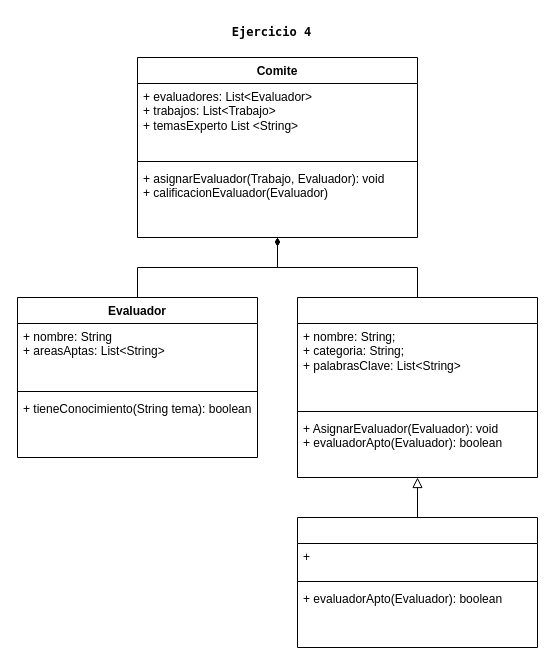
The diagram is 555 pixels wide and 667 high, and some of its shapes have lost their labels. Here are the shapes that lost their labels. From the top down, the box of each, then its label:
(296, 296, 538, 478): Trabajo
(296, 516, 538, 648): Poster
